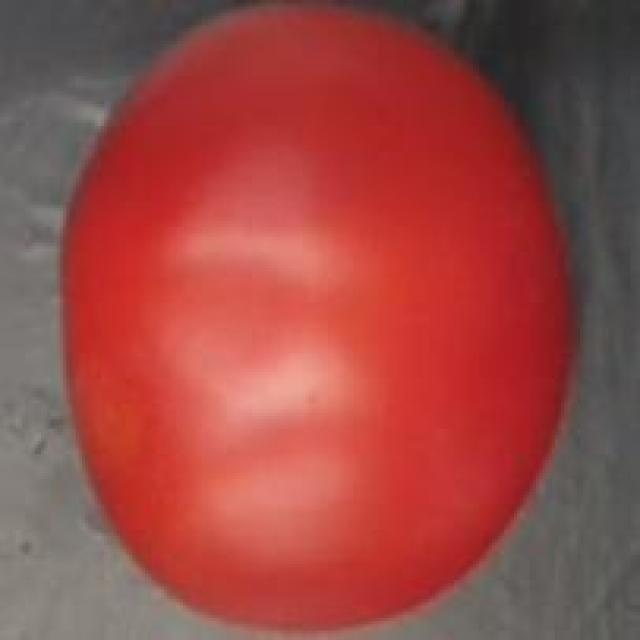ripe tomato: (54, 0, 586, 640)
